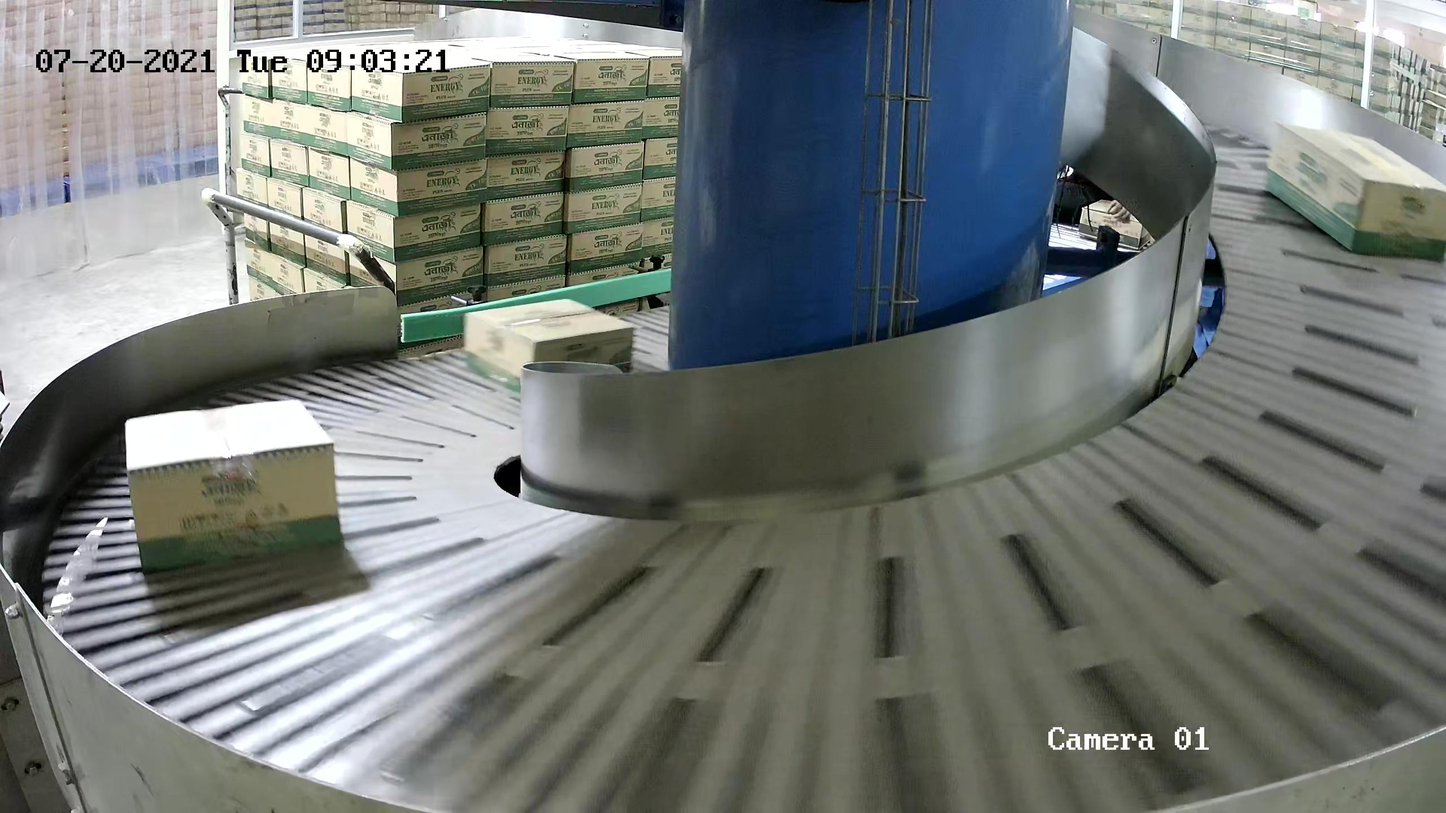Box: (123, 398, 342, 571), (1263, 118, 1446, 261), (462, 297, 637, 393)
